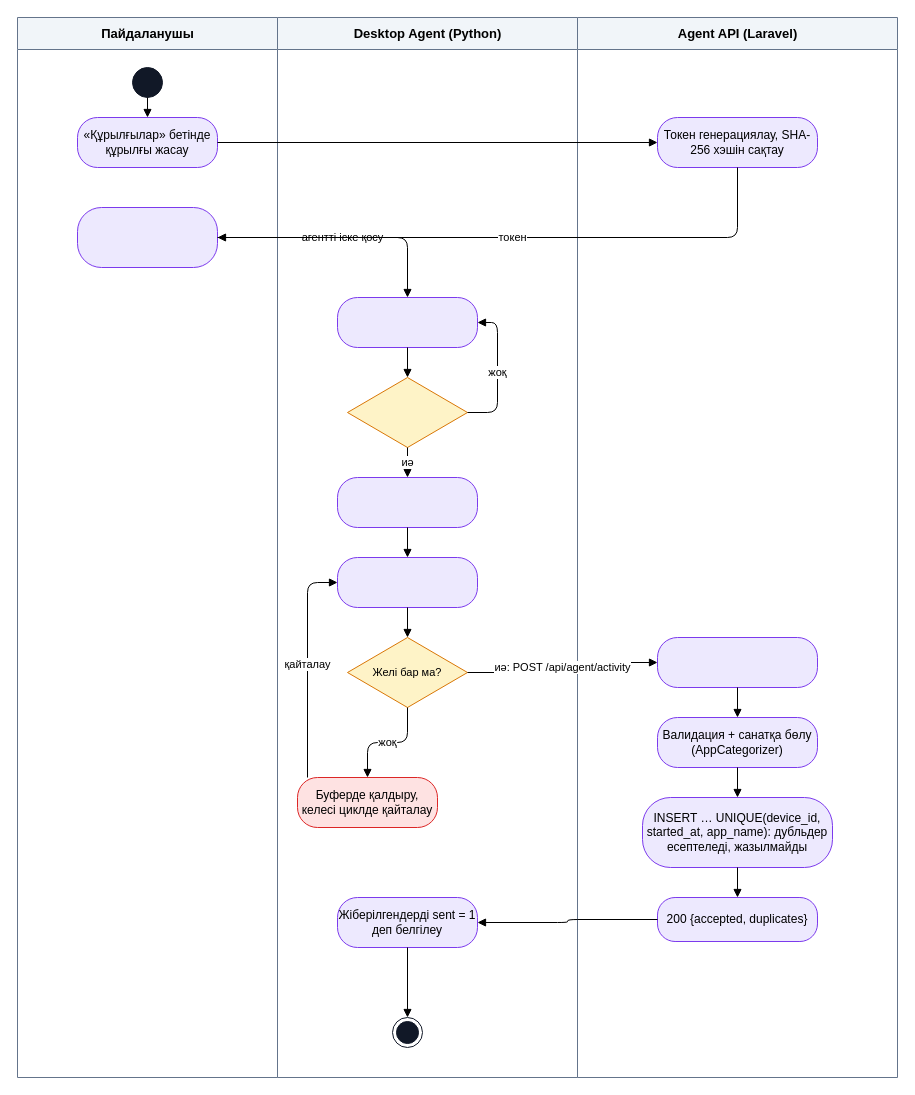
Some shapes in this 915 by 1095 pixel diagram are drawn without their labels. Each missing label, with the centre of its shape:
Белсенді терезені өлшеу (әр 5 с): point 407,322
Сессия жабылды ма?: point 407,412
Сессияны SQLite буферге жазу (sent = 0): point 407,502
Токенді config.ini-ге жазу (бір рет көрсетіледі): point 147,237
Токенді тексеру (401 / жалғастыру): point 737,662
Әр 60 с: жіберілмегендерді алу (≤500): point 407,582
